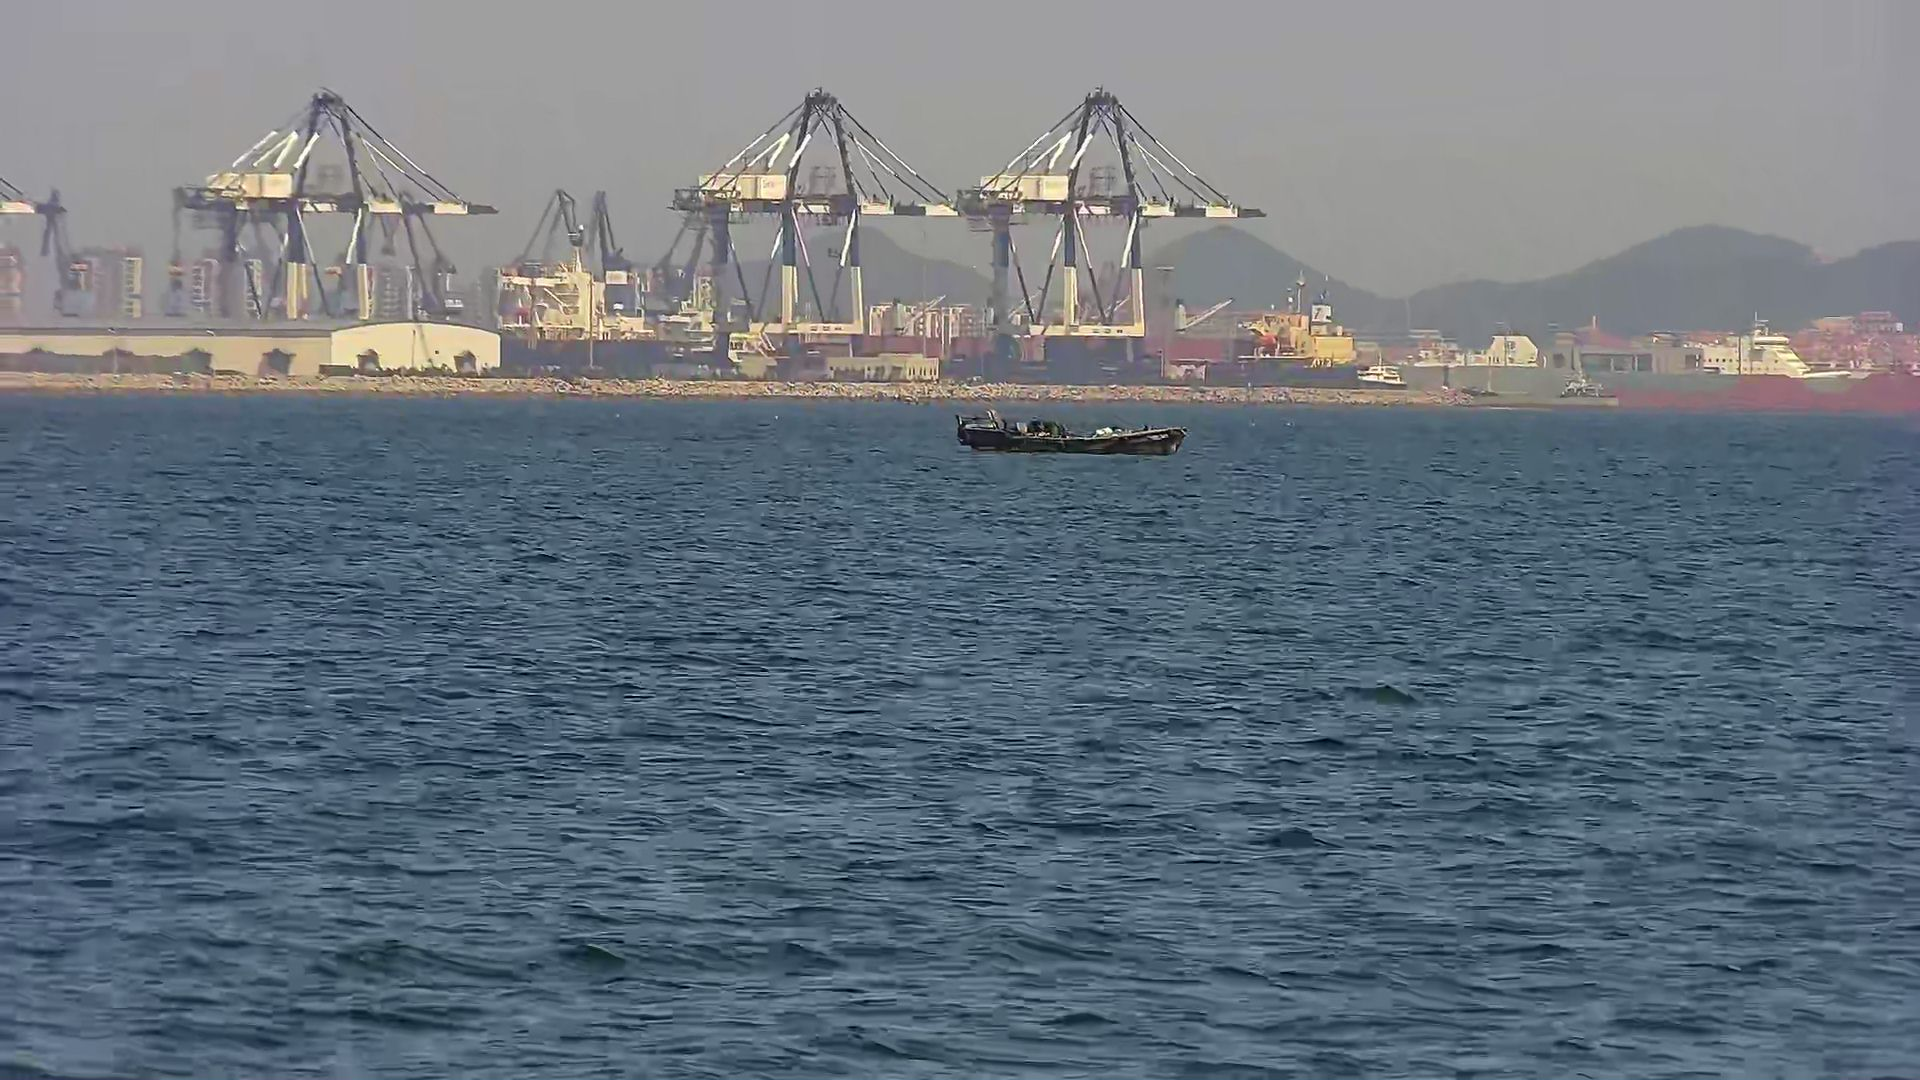boat: (955, 407, 1185, 462)
